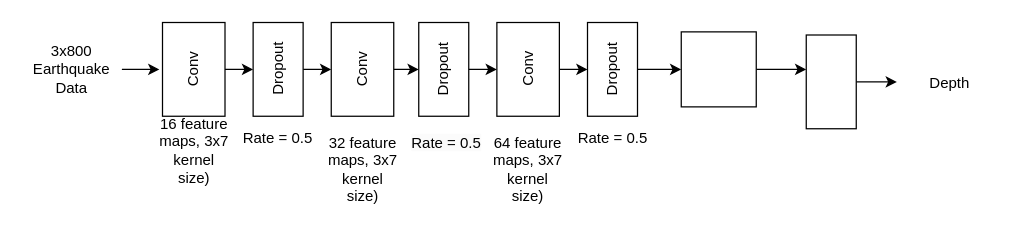
Image size: 1024x226. Some labels were removed from this diagram. The centre of each missing label's shape, as x and y in pixels:
Fully Connected (3 out): the point at 718,69
Softmax: the point at 830,81
